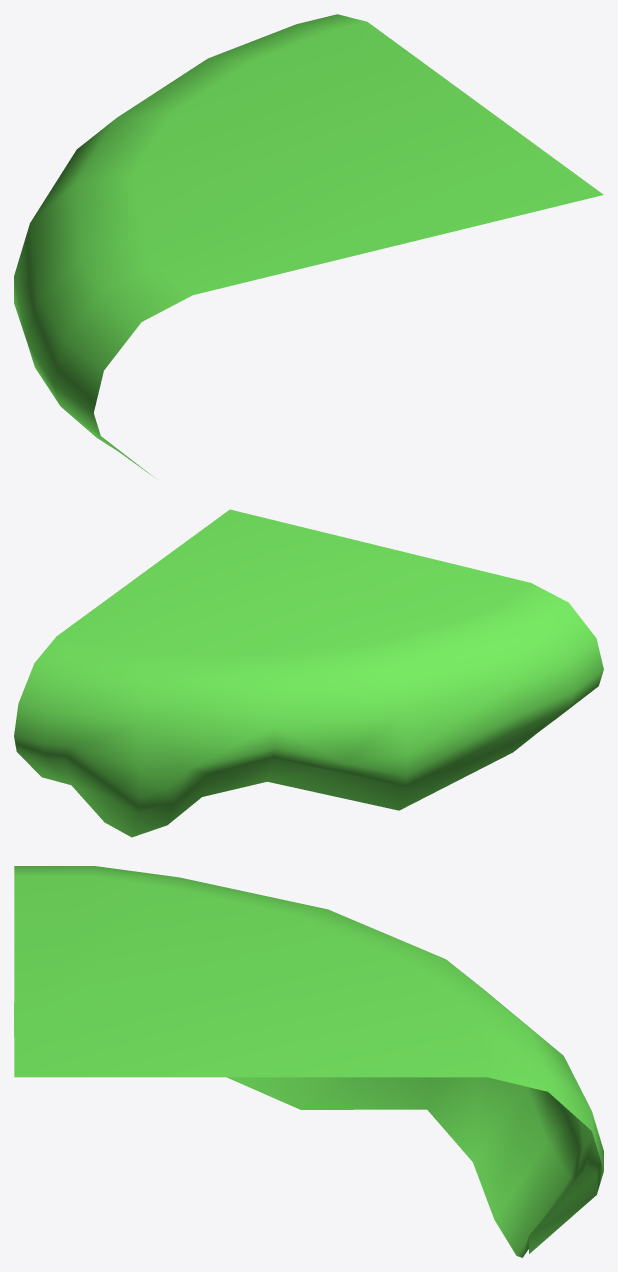
File: Grass_Corner_Mesh.fbx
3 views of the same model, one above another, from view 1: azimuth 30°, elevation 25°; view 2: azimuth 150°, elevation 25°; view 3: azimuth 270°, elevation 25° (orthographic). The views are drawn at different scales.
Visible parts, largest first — view 1: Grass_Corner; view 2: Grass_Corner; view 3: Grass_Corner.
Boxes of the visible parts, x1,y1,x2,y2 form: Grass_Corner: [14, 14, 603, 477]; Grass_Corner: [14, 509, 603, 837]; Grass_Corner: [14, 866, 603, 1257].
Size of the model in its own units: 149 by 149 by 65.67.
